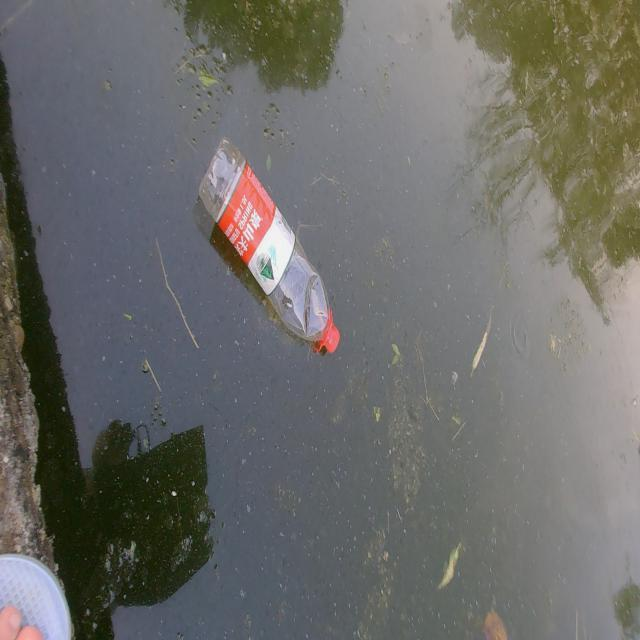bottle: (182, 127, 372, 364)
